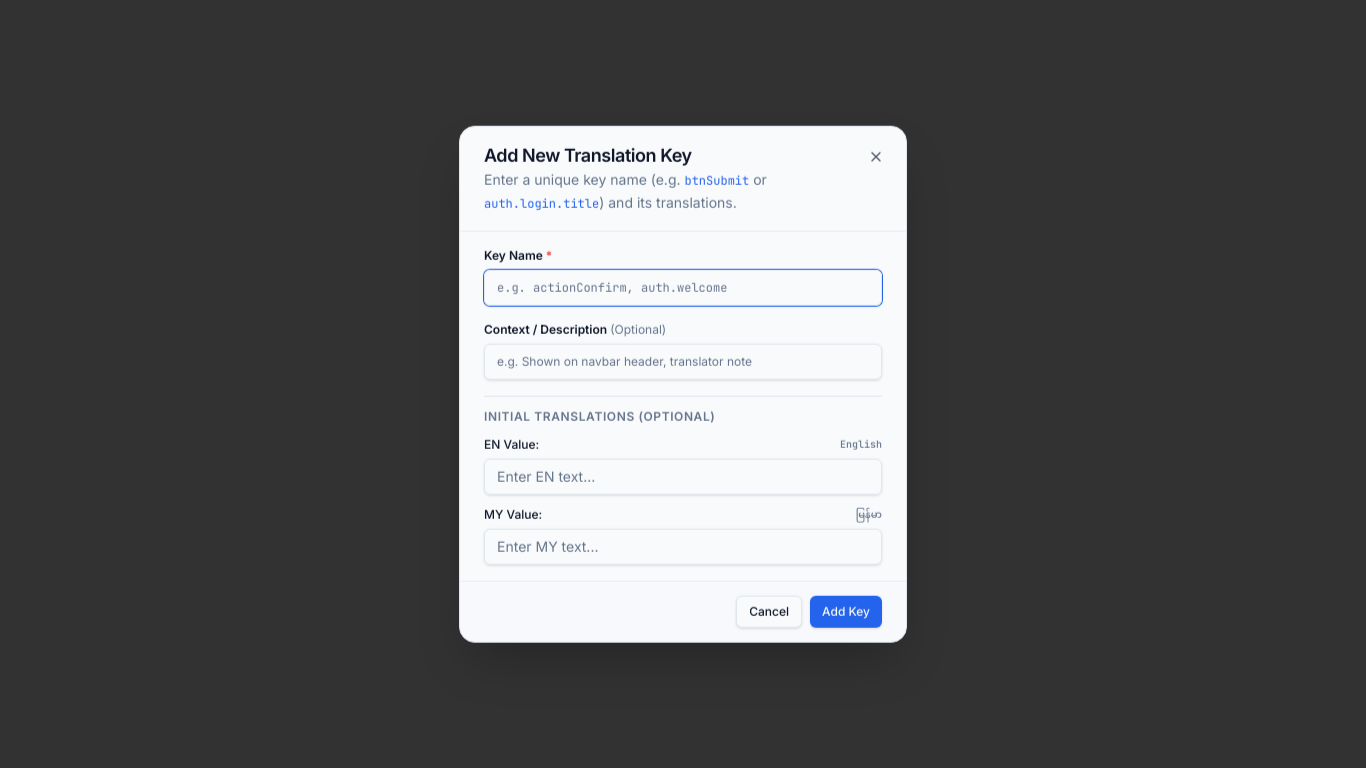
AddKeyDialog › shows validation error if key name is empty on submit
The width and height of the screenshot is (1366, 768).
Click the button "Add Key": [846, 611] box x1=810 y1=595 x2=882 y2=627
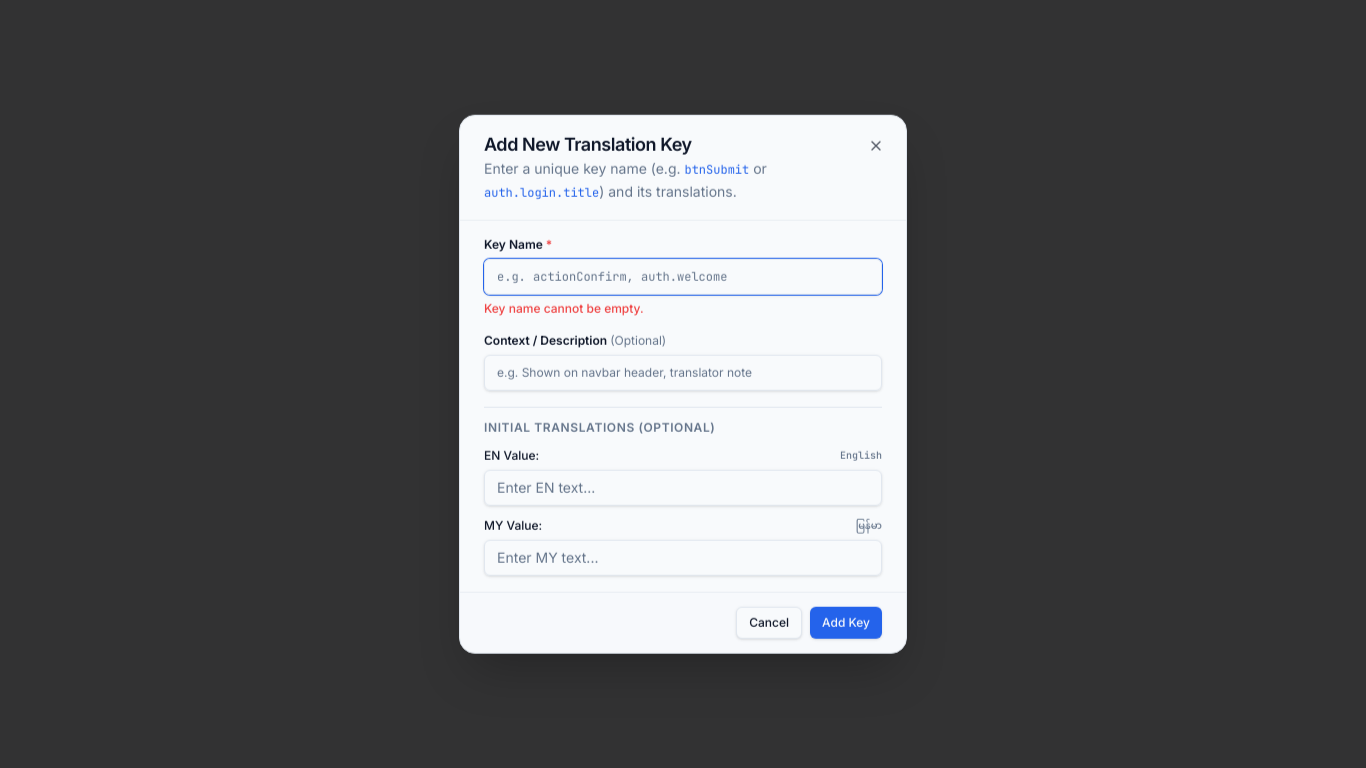
Expected: the text "Key name cannot be empty." is shown, x1=484 y1=300 x2=644 y2=315
